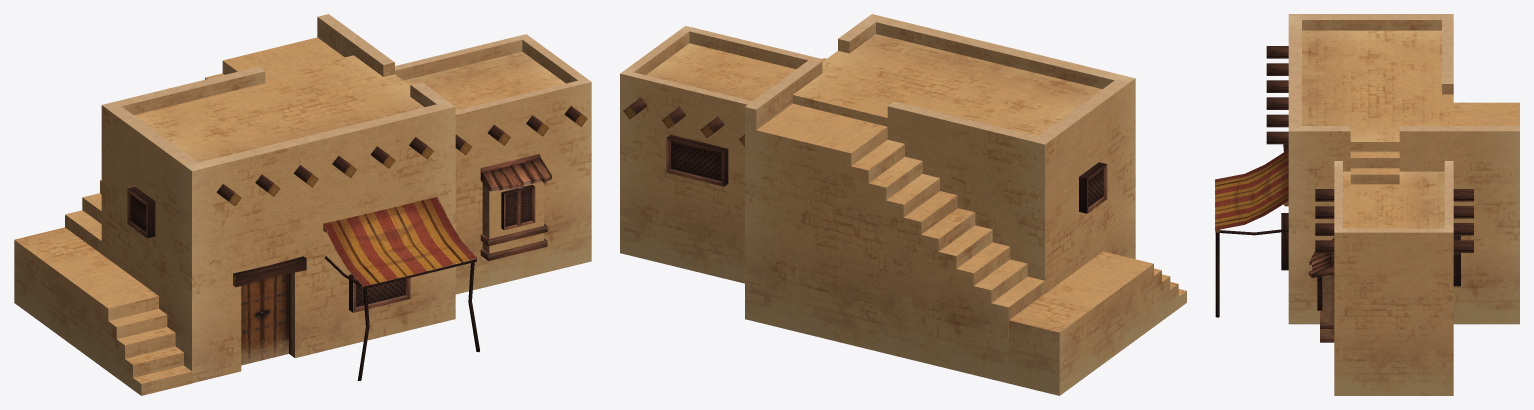
The model's file is House_05.fbx.
3 views of the same model, side by side, from view 1: azimuth 30°, elevation 25°; view 2: azimuth 150°, elevation 25°; view 3: azimuth 270°, elevation 25° (orthographic). The views are drawn at different scales.
Parts seen in each view (by area): view 1: House_05; view 2: House_05; view 3: House_05.
Part boxes in pixels (x1=…): House_05: x1=14, y1=14, x2=591, y2=395; House_05: x1=620, y1=14, x2=1186, y2=395; House_05: x1=1215, y1=14, x2=1519, y2=395.
Bounding box in the file's own units: 2.05 × 0.8715 × 1.25.
